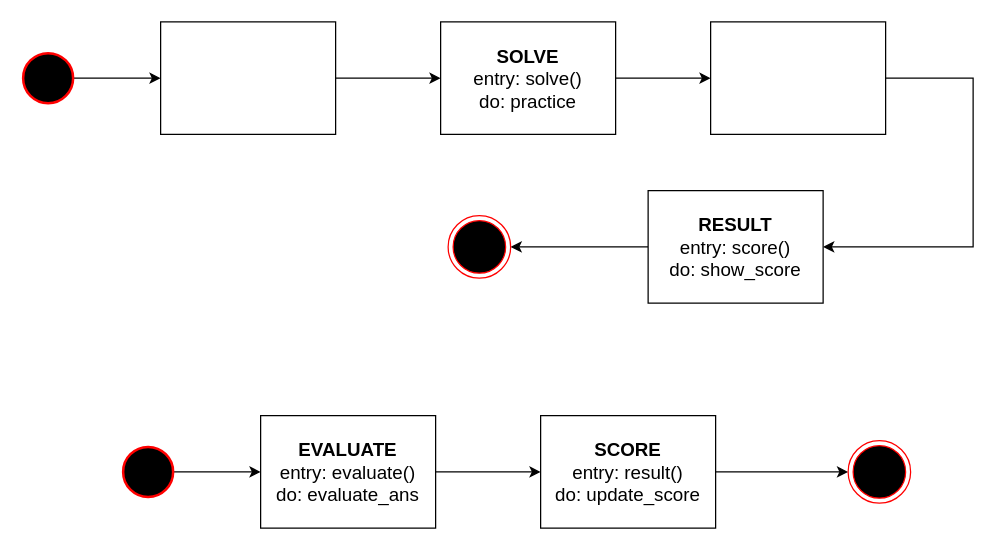
The diagram is 1005 pixels wide and 550 high, and some of its shapes have lost their labels. The box of each missing label's shape, as (x1, y1, x2, y2) in pixels:
CHECK entry: match() do: match_for_ans: (709, 21, 886, 134)
LOGIN entry: login() do: student_login: (159, 21, 336, 134)
